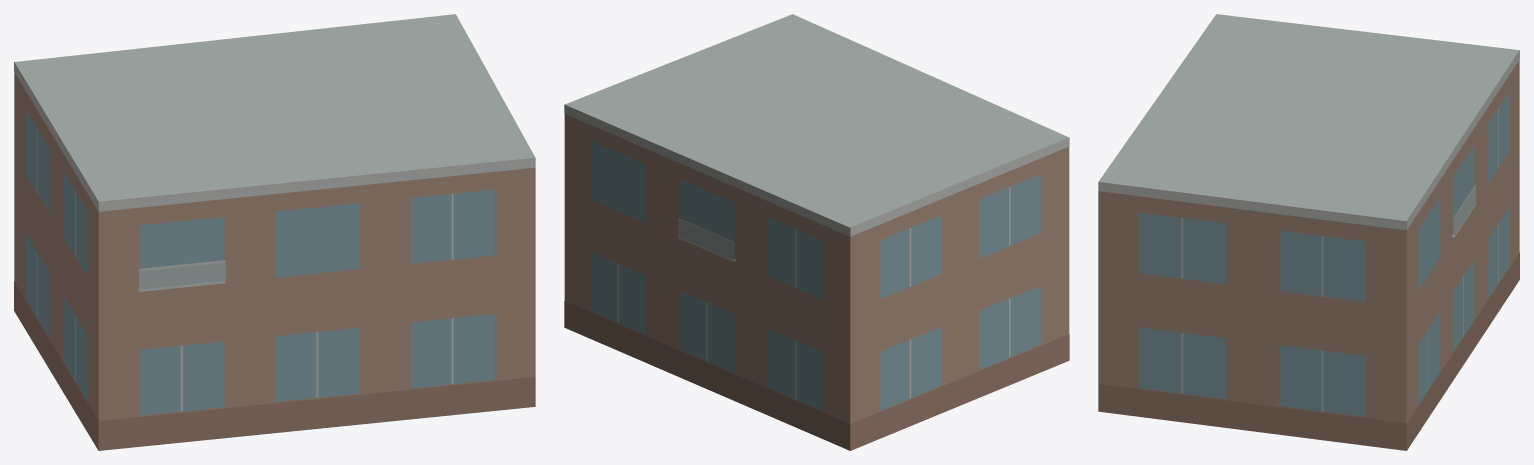
File: survey-upis-32657439.glb
The picture shows the model from 3 angles, left to right: view 1: azimuth 30°, elevation 25°; view 2: azimuth 150°, elevation 25°; view 3: azimuth 270°, elevation 25°; orthographic projection. The views are drawn at different scales.
Parts seen in each view (by area): view 1: survey-upis-32657439.tmp; view 2: survey-upis-32657439.tmp; view 3: survey-upis-32657439.tmp.
Boxes of the visible parts, x1,y1,x2,y2 form: survey-upis-32657439.tmp: (14, 14, 535, 450); survey-upis-32657439.tmp: (564, 14, 1069, 450); survey-upis-32657439.tmp: (1098, 14, 1519, 450).
Size of the model in its own units: 11.81 by 6.1 by 10.16.
